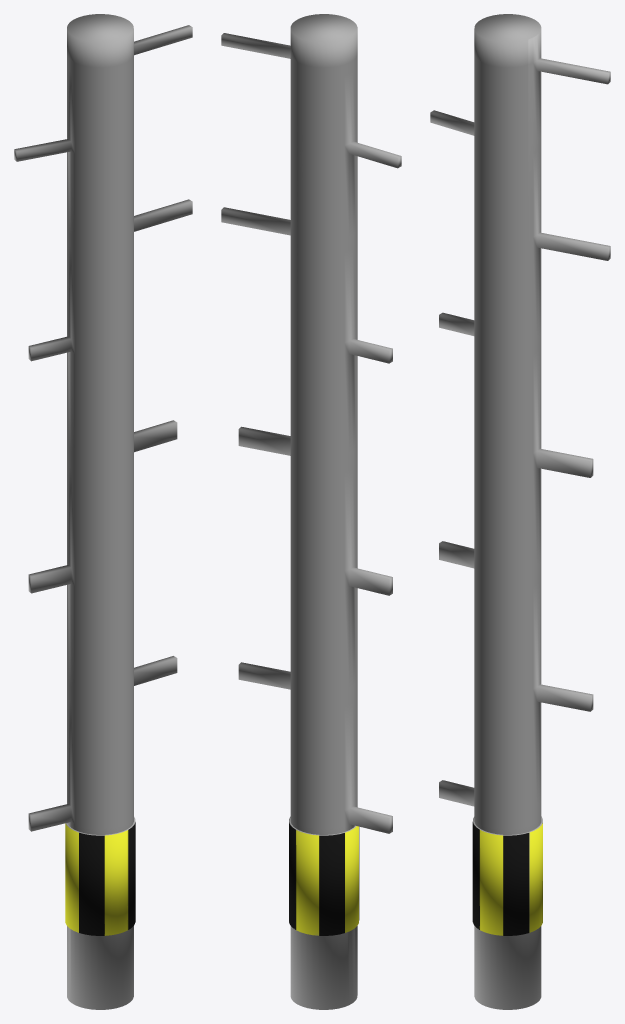
Rendered from denchu.fbx.
3 renders of one model, left to right at view 1: azimuth 30°, elevation 25°; view 2: azimuth 150°, elevation 25°; view 3: azimuth 330°, elevation 25°, orthographic.
Visible parts, largest first — view 1: denchu; view 2: denchu; view 3: denchu.
Boxes of the visible parts, left/top/right/bottom form: denchu: left=14, top=14, right=192, bottom=1009; denchu: left=221, top=14, right=401, bottom=1009; denchu: left=430, top=14, right=610, bottom=1009.
Bounding box in the file's own units: 341 × 1782 × 117.
1 material, 1 textured.
